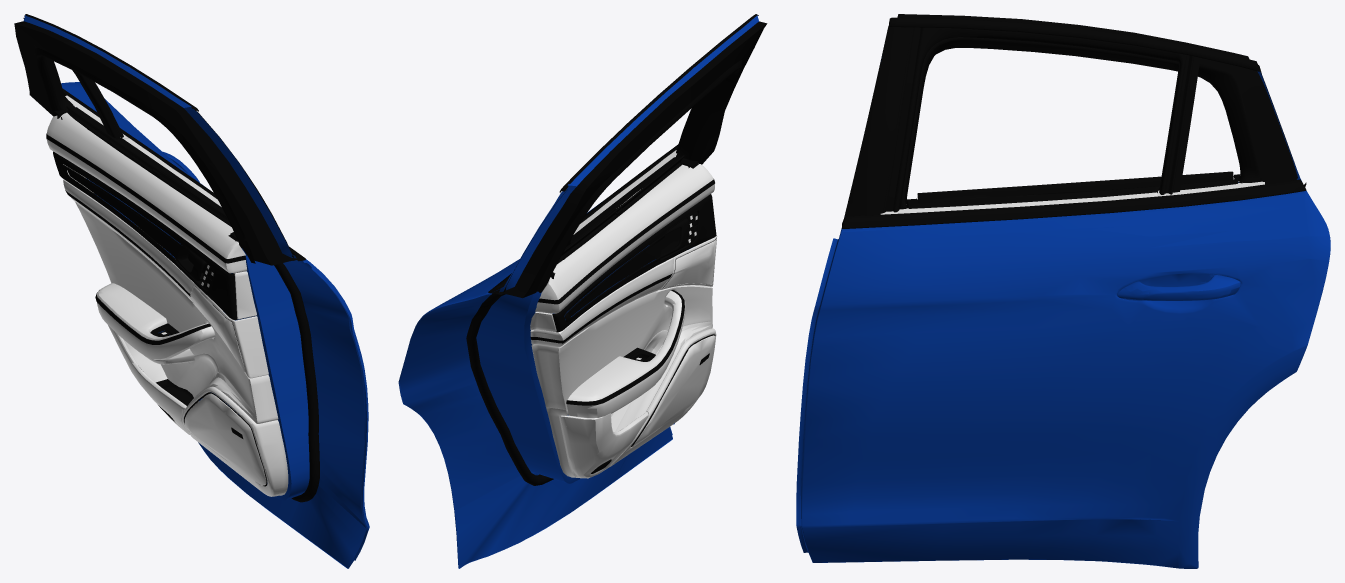
File: Stanga_Spate_Albastru.fbx
3 views of the same model, side by side, from view 1: azimuth 30°, elevation 25°; view 2: azimuth 150°, elevation 25°; view 3: azimuth 270°, elevation 25° (orthographic). The views are drawn at different scales.
Parts seen in each view (by area): view 1: door_lr, door_LB, door_lrFBXASC046003, door_lrFBXASC046002, door_lrFBXASC046004, door_lr_005, door_lr_006; view 2: door_LB, door_lr, door_lrFBXASC046003, door_lrFBXASC046002, door_lrFBXASC046004, door_lr_005, door_lr_006; view 3: door_LB, door_lr, door_lrFBXASC046002.
Boxes of the visible parts, bbox=[...] form: door_lr: bbox=[14, 14, 319, 502]; door_LB: bbox=[23, 15, 369, 568]; door_lrFBXASC046003: bbox=[63, 164, 288, 496]; door_lrFBXASC046002: bbox=[46, 95, 246, 273]; door_lrFBXASC046004: bbox=[96, 283, 215, 364]; door_lr_005: bbox=[184, 393, 266, 485]; door_lr_006: bbox=[191, 286, 245, 371]; door_LB: bbox=[398, 15, 758, 568]; door_lr: bbox=[466, 14, 767, 485]; door_lrFBXASC046003: bbox=[530, 235, 717, 478]; door_lrFBXASC046002: bbox=[535, 150, 714, 313]; door_lrFBXASC046004: bbox=[566, 290, 685, 418]; door_lr_005: bbox=[632, 335, 715, 446]; door_lr_006: bbox=[664, 239, 716, 287]; door_LB: bbox=[796, 71, 1330, 568]; door_lr: bbox=[841, 14, 1306, 228]; door_lrFBXASC046002: bbox=[880, 181, 1264, 214].
Size of the model in its own units: 703 by 1949 by 1947.
